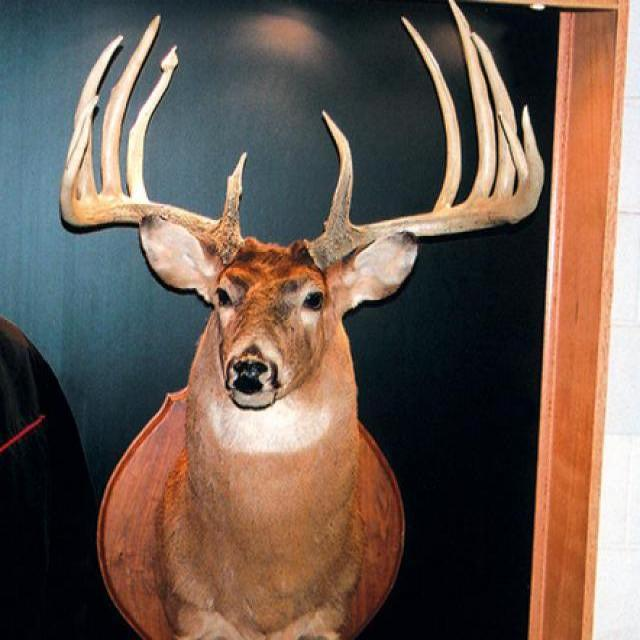deer: (75, 10, 534, 640)
